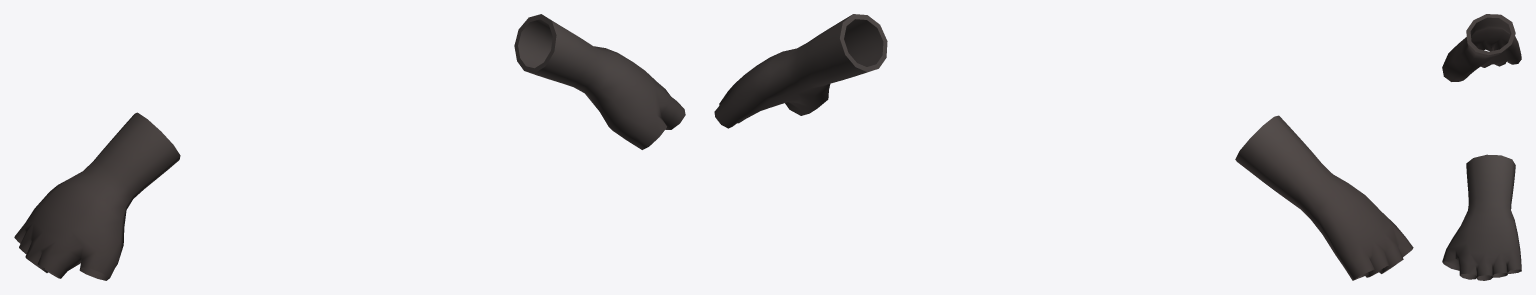
File: Gloves_09.glb
3 views of the same model, side by side, from view 1: azimuth 30°, elevation 25°; view 2: azimuth 150°, elevation 25°; view 3: azimuth 270°, elevation 25° (orthographic). The views are drawn at different scales.
Parts seen in each view (by area): view 1: Gloves_09; view 2: Gloves_09; view 3: Gloves_09.
Part boxes in pixels (x1,y1,x2,y2): Gloves_09: (14, 14, 685, 280); Gloves_09: (714, 14, 1413, 280); Gloves_09: (1442, 14, 1521, 280).
Size of the model in its own units: 0.8069 by 0.1534 by 0.1205.
1 material, 1 textured.
